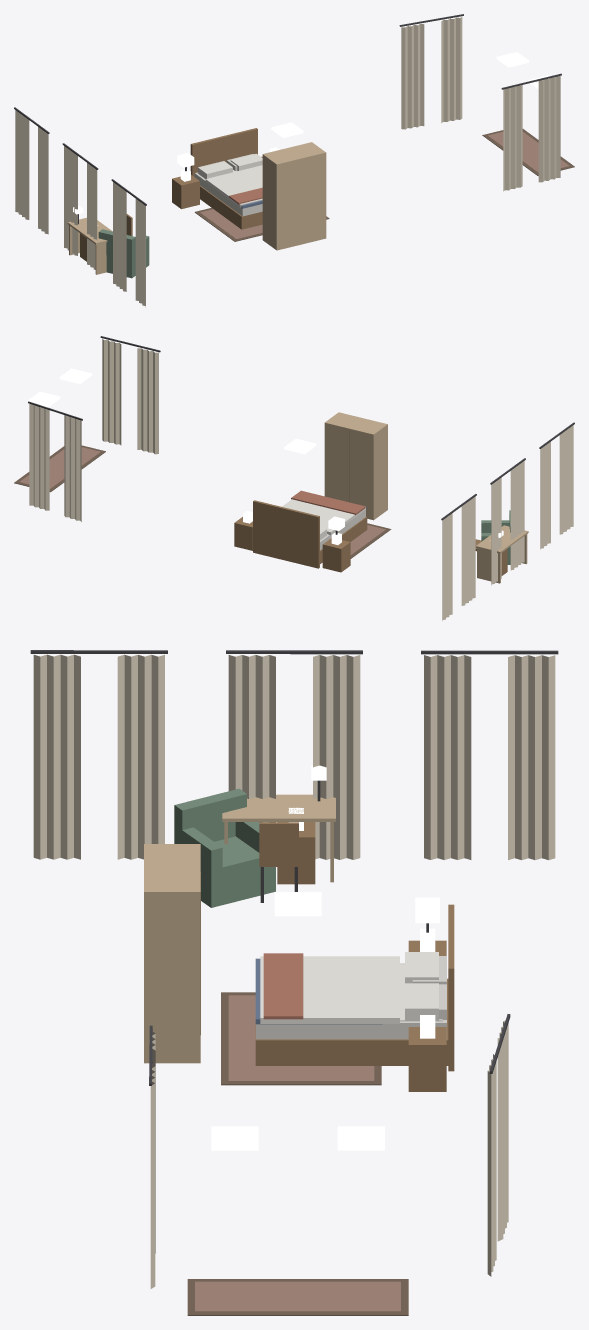
Rendered from fine-s3.glb.
3 views of the same model, one above another, from view 1: azimuth 30°, elevation 25°; view 2: azimuth 150°, elevation 25°; view 3: azimuth 270°, elevation 25° (orthographic). The views are drawn at different scales.
Parts seen in each view (by area): view 1: soft-s3, dresser.002, bed-frame.002, writing-desk.002, lounge-chair.002, nightstand.004; view 2: soft-s3, dresser.002, bed-frame.002, writing-desk.002, nightstand.004, nightstand.005; view 3: soft-s3, dresser.002, bed-frame.002, lounge-chair.002, writing-desk.002, nightstand.005, cafe-chair.002, side-table.002, ceiling-lamp.008, ceiling-lamp.009, ceiling-lamp.010.
Part boxes in pixels (<box>): soft-s3: <box>14,14,574,307</box>; dresser.002: <box>262,142,326,250</box>; bed-frame.002: <box>190,128,262,229</box>; writing-desk.002: <box>67,206,112,274</box>; lounge-chair.002: <box>98,229,149,278</box>; nightstand.004: <box>172,169,199,209</box>; soft-s3: <box>14,336,574,620</box>; dresser.002: <box>324,412,387,520</box>; bed-frame.002: <box>253,500,367,568</box>; writing-desk.002: <box>475,525,528,583</box>; nightstand.004: <box>322,532,350,572</box>; nightstand.005: <box>234,511,252,550</box>; soft-s3: <box>30,650,558,1315</box>; dresser.002: <box>144,844,200,1063</box>; bed-frame.002: <box>255,904,454,1071</box>; lounge-chair.002: <box>174,788,275,907</box>; writing-desk.002: <box>222,765,335,882</box>; nightstand.005: <box>408,1015,446,1091</box>; cafe-chair.002: <box>259,822,298,902</box>; side-table.002: <box>277,807,315,884</box>; ceiling-lamp.008: <box>337,1126,384,1150</box>; ceiling-lamp.009: <box>211,1126,258,1150</box>; ceiling-lamp.010: <box>274,892,321,916</box>.
Bounding box in the file's own units: 11.43 × 2.46 × 5.58.
